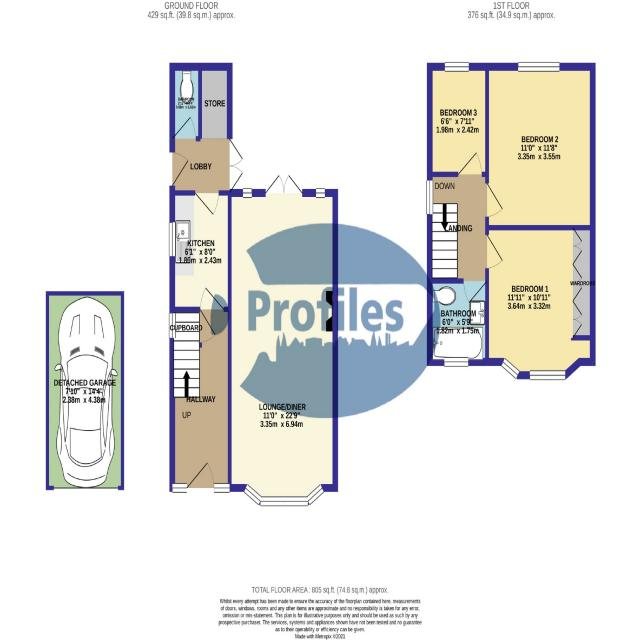DOOR: (186, 460, 216, 493), (457, 150, 483, 178), (485, 233, 504, 270), (168, 151, 188, 186), (485, 182, 504, 218), (463, 278, 488, 304), (198, 286, 223, 311), (196, 190, 220, 215), (174, 116, 196, 141)
DOUBLE DOOR: (264, 175, 303, 198), (227, 137, 244, 189)
ROOM: (229, 170, 340, 504), (485, 61, 596, 231), (485, 224, 596, 380), (168, 190, 232, 315), (426, 62, 489, 177)
WINDOW: (243, 483, 324, 507), (517, 61, 560, 73), (501, 357, 520, 380), (529, 370, 566, 381), (167, 222, 176, 258), (426, 180, 434, 215), (444, 357, 469, 368), (444, 61, 469, 72), (168, 314, 176, 339), (171, 484, 188, 493), (214, 483, 229, 493), (243, 187, 252, 198), (316, 188, 325, 198)
